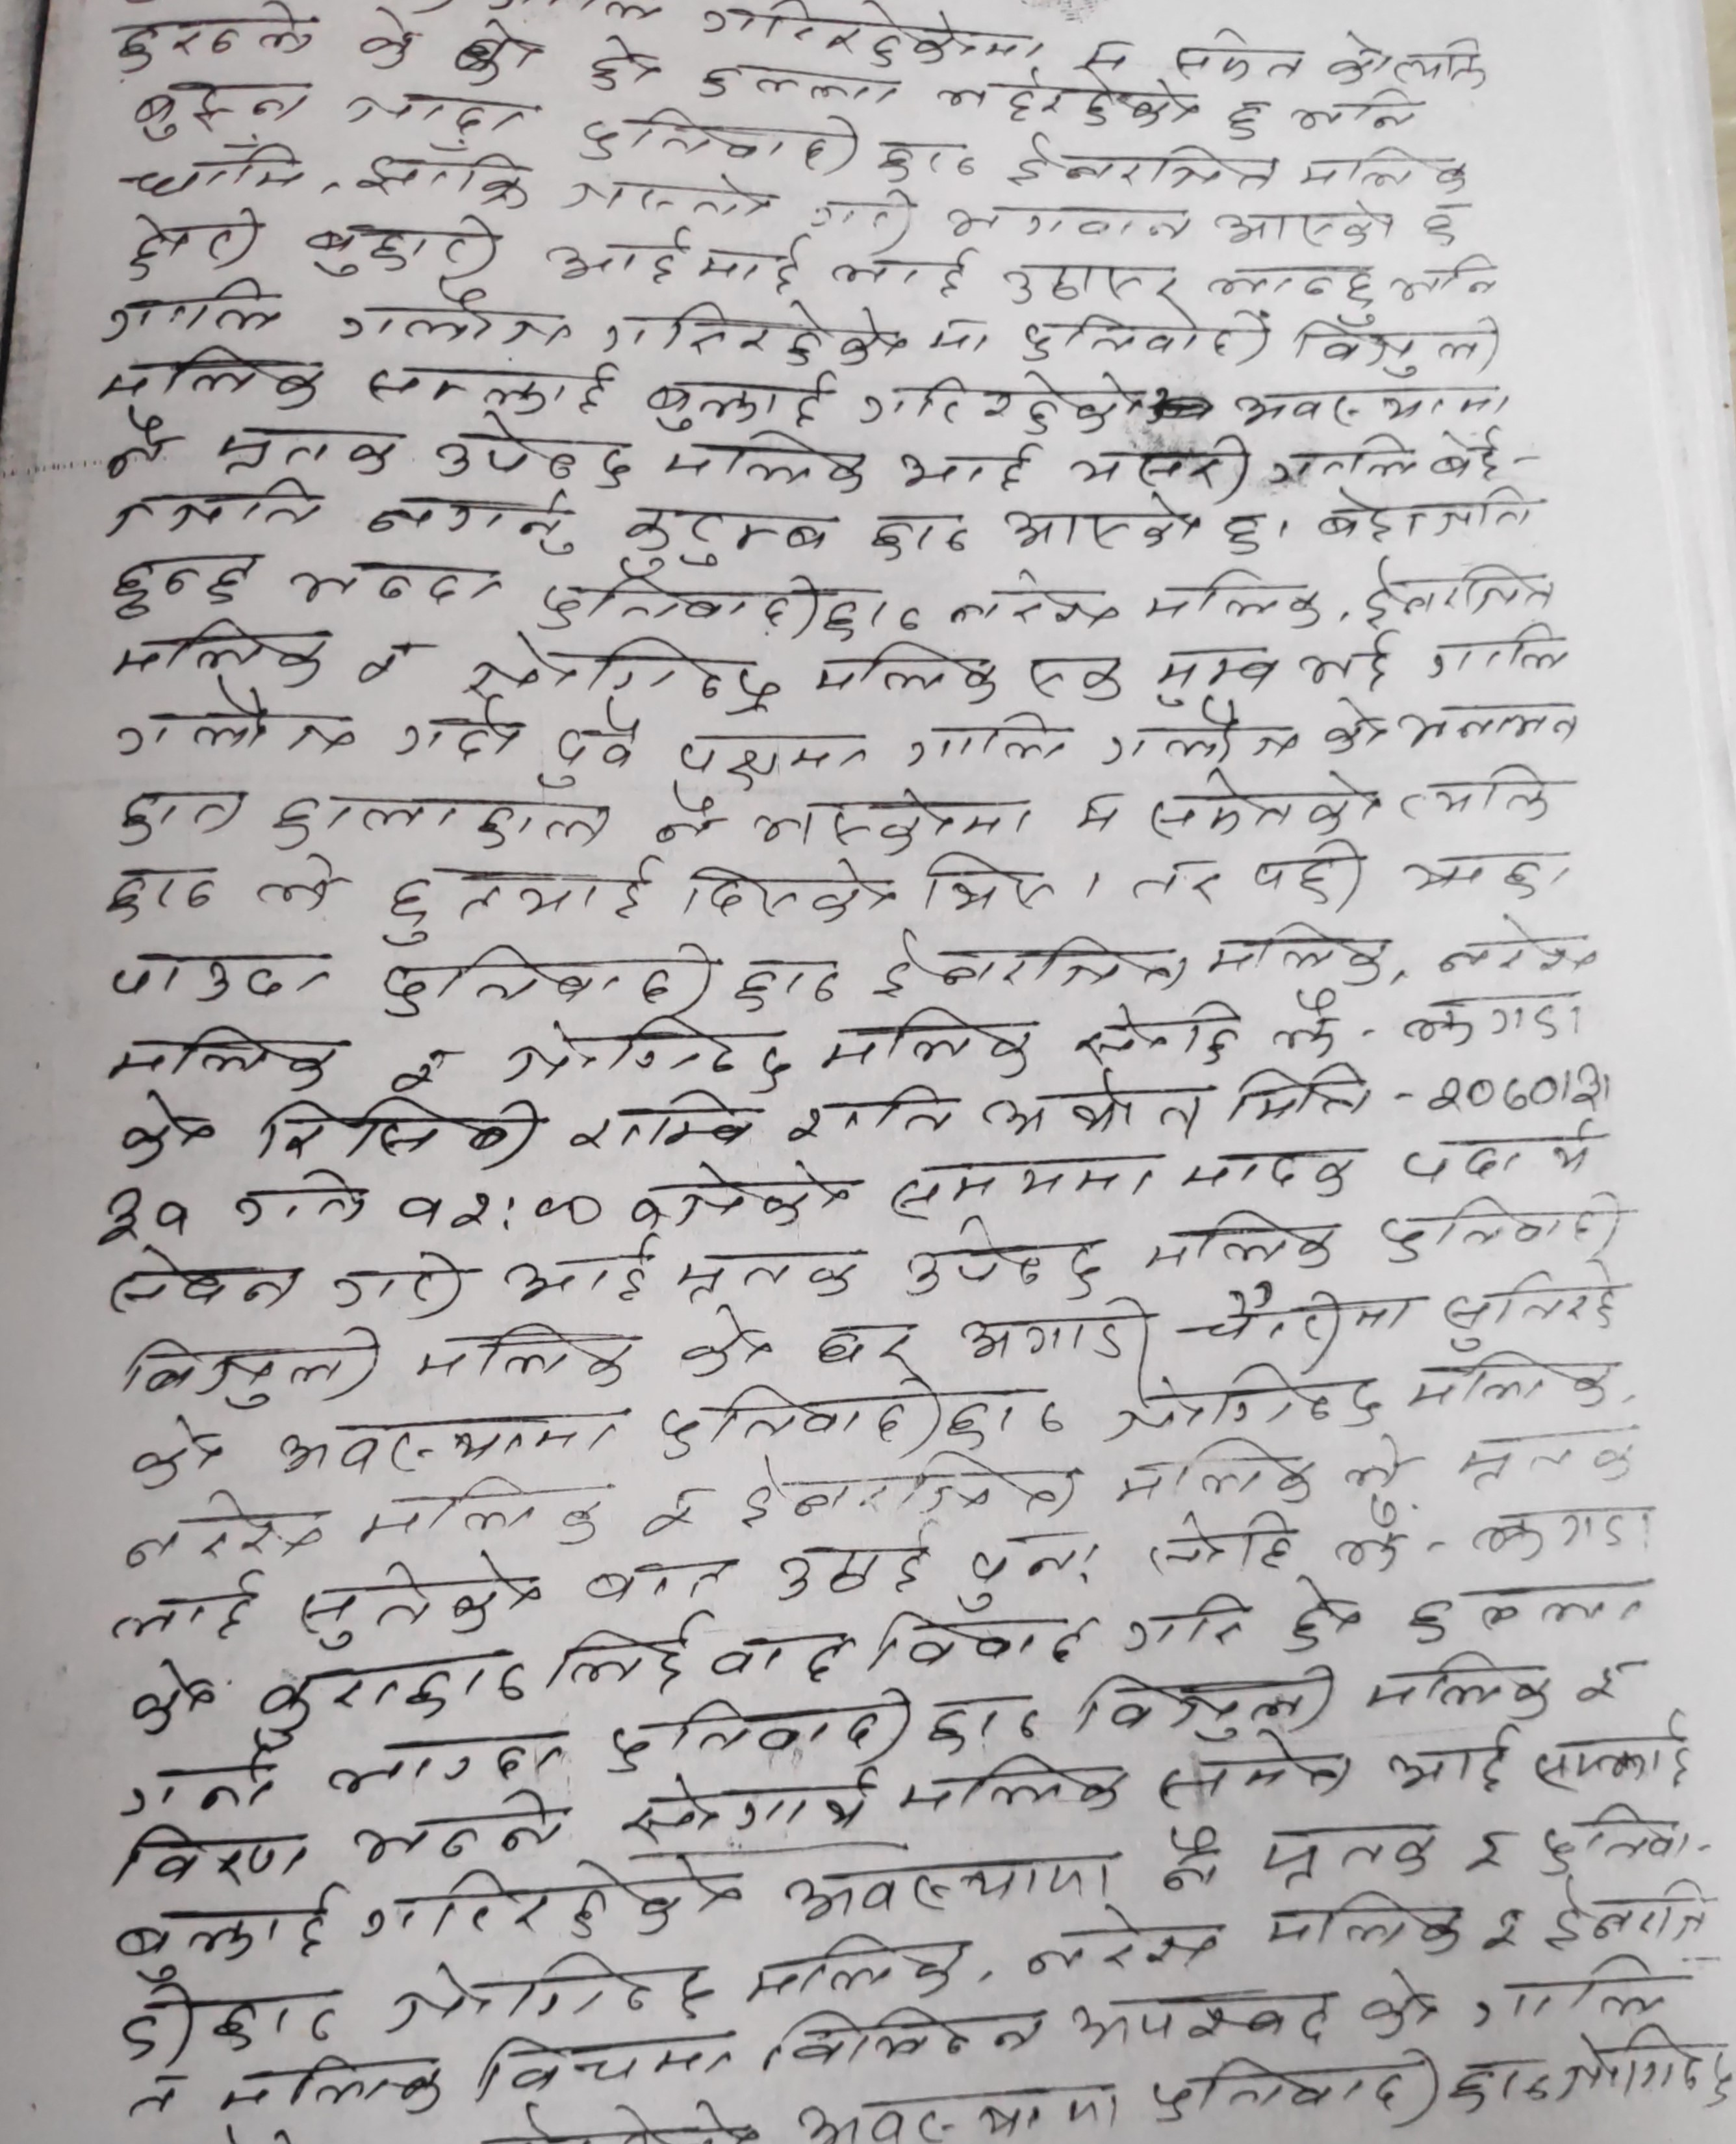text: (1451, 2027, 1736, 2144), (657, 1377, 1066, 1455), (356, 1864, 730, 1944), (376, 932, 723, 1015), (1148, 2048, 1447, 2144), (384, 1944, 717, 2029), (608, 1687, 918, 1775), (459, 629, 774, 714), (379, 854, 664, 946), (742, 1451, 1077, 1527), (492, 1010, 792, 1091), (872, 925, 1189, 1001), (271, 787, 611, 858), (781, 1848, 1120, 1919), (126, 1318, 390, 1409), (698, 0, 1043, 67), (298, 1549, 540, 1644), (1075, 1662, 1337, 1747), (585, 105, 861, 184), (278, 1407, 624, 1471), (110, 1885, 340, 1981), (749, 780, 1036, 856), (620, 1763, 880, 1845), (216, 2054, 448, 2144), (599, 296, 902, 365), (255, 1091, 542, 1164), (349, 1471, 604, 1552), (468, 2022, 739, 2098), (1120, 1357, 1380, 1435), (760, 2004, 1058, 2070), (537, 572, 824, 640), (106, 686, 360, 762), (546, 221, 802, 296), (103, 1021, 353, 1097), (898, 1212, 1107, 1302), (322, 1722, 579, 1795), (337, 275, 567, 354), (1465, 1946, 1679, 2031), (113, 1981, 344, 2059), (1159, 633, 1398, 707), (742, 1926, 974, 2002), (898, 1744, 1128, 1820), (1376, 1194, 1637, 1262), (1068, 1985, 1341, 2048), (882, 1155, 1169, 1216), (861, 374, 1146, 434), (413, 1318, 643, 1393), (1187, 1276, 1417, 1350), (367, 482, 586, 560), (1150, 765, 1385, 838), (1008, 129, 1283, 191), (347, 1788, 570, 1864), (618, 501, 840, 578), (625, 1157, 857, 1230), (1438, 1260, 1624, 1350), (960, 1295, 1166, 1377), (119, 1488, 328, 1568), (820, 1003, 1038, 1079), (980, 1068, 1208, 1141), (252, 1662, 531, 1721), (932, 71, 1210, 129), (99, 475, 333, 544), (434, 406, 631, 487), (1267, 427, 1504, 494), (1017, 307, 1272, 369), (1019, 1903, 1231, 1977), (1265, 1885, 1465, 1963), (1151, 1733, 1357, 1807), (99, 344, 326, 411), (105, 4, 317, 74), (677, 861, 895, 930), (113, 1814, 305, 1892), (108, 622, 335, 687), (863, 1605, 1095, 1669), (1362, 1646, 1550, 1724), (365, 360, 615, 418), (1100, 702, 1306, 773), (1107, 1437, 1323, 1504), (103, 1246, 303, 1318), (1398, 1352, 1621, 1416), (1256, 1811, 1438, 1889), (1396, 1118, 1605, 1185), (351, 136, 539, 211), (1231, 379, 1511, 429), (1529, 1715, 1695, 1798), (103, 948, 335, 1006), (953, 1522, 1105, 1611), (1139, 1205, 1339, 1272), (1532, 1797, 1693, 1880), (103, 269, 282, 344), (1539, 1875, 1718, 1949), (1453, 1426, 1647, 1494), (815, 638, 999, 709), (1288, 319, 1504, 379), (661, 434, 870, 496), (1307, 489, 1541, 544), (905, 703, 1072, 780), (547, 1607, 701, 1689), (306, 218, 498, 284), (1004, 491, 1201, 555), (117, 1744, 285, 1818), (1360, 558, 1555, 622), (645, 372, 834, 438), (1394, 990, 1594, 1053), (106, 1572, 264, 1650), (944, 198, 1190, 248), (565, 1084, 756, 1148), (778, 1524, 934, 1602), (1210, 920, 1394, 985), (1469, 1497, 1656, 1561), (115, 142, 308, 204), (1143, 571, 1323, 636), (1073, 996, 1236, 1068), (560, 172, 772, 227), (785, 1084, 960, 1150), (211, 418, 406, 477), (503, 1233, 659, 1306), (292, 558, 505, 611), (949, 569, 1121, 634), (1327, 23, 1490, 92), (1135, 1504, 1302, 1572), (112, 548, 262, 620), (391, 1189, 604, 1240), (1399, 760, 1566, 826), (1426, 1060, 1612, 1118), (1073, 436, 1252, 496), (322, 1249, 466, 1324), (1398, 696, 1580, 755), (135, 80, 315, 138), (1437, 916, 1601, 980), (340, 83, 537, 136), (1226, 1061, 1376, 1129), (671, 734, 875, 783), (1178, 1145, 1368, 1198), (673, 1249, 859, 1302), (1422, 624, 1577, 687), (831, 241, 980, 307), (234, 1162, 365, 1237), (1387, 1724, 1518, 1798), (700, 62, 900, 110), (919, 847, 1058, 916), (895, 438, 1052, 496), (126, 209, 259, 278), (1116, 1588, 1249, 1657), (115, 778, 246, 847), (1469, 1577, 1639, 1630), (1208, 259, 1376, 312), (1251, 835, 1368, 911), (1217, 200, 1396, 250), (1399, 847, 1571, 898), (1003, 262, 1185, 310), (119, 1086, 216, 1171), (124, 1653, 221, 1736), (1300, 144, 1467, 191), (1167, 28, 1307, 85), (103, 856, 220, 923), (391, 702, 528, 758), (678, 1302, 771, 1386), (542, 712, 647, 785), (1355, 1967, 1445, 2050), (726, 952, 840, 1017), (129, 1416, 229, 1488), (712, 1630, 843, 1685), (583, 1556, 742, 1600), (1283, 1577, 1368, 1658), (94, 1180, 193, 1249), (925, 1690, 1042, 1749), (1153, 1822, 1233, 1903), (808, 188, 918, 246), (868, 507, 971, 567), (452, 16, 539, 87), (813, 1320, 921, 1377), (1332, 1503, 1410, 1581), (1290, 90, 1431, 133), (103, 409, 181, 486), (1130, 854, 1222, 916), (255, 852, 349, 913), (1389, 250, 1495, 301), (870, 133, 973, 184), (1022, 656, 1134, 702), (585, 35, 661, 101), (1277, 987, 1345, 1060), (356, 4, 423, 74), (1323, 691, 1387, 762), (1396, 1588, 1461, 1651), (654, 788, 725, 847), (641, 1481, 710, 1538), (1343, 1439, 1414, 1490), (356, 636, 427, 686), (928, 312, 994, 363), (1460, 1822, 1516, 1880), (1569, 1660, 1637, 1708), (1073, 32, 1135, 83), (386, 1049, 461, 1091), (1070, 788, 1128, 842), (1479, 1903, 1529, 1963), (1417, 200, 1474, 246), (1226, 96, 1275, 145), (1226, 509, 1270, 560), (827, 592, 857, 647)
